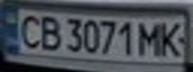0: (81, 17, 100, 54)
1: (115, 18, 139, 56)
3: (63, 16, 84, 53)
7: (100, 17, 118, 55)
B: (33, 12, 63, 52)
C: (12, 11, 45, 50)
K: (157, 18, 187, 57)
M: (136, 19, 166, 56)
